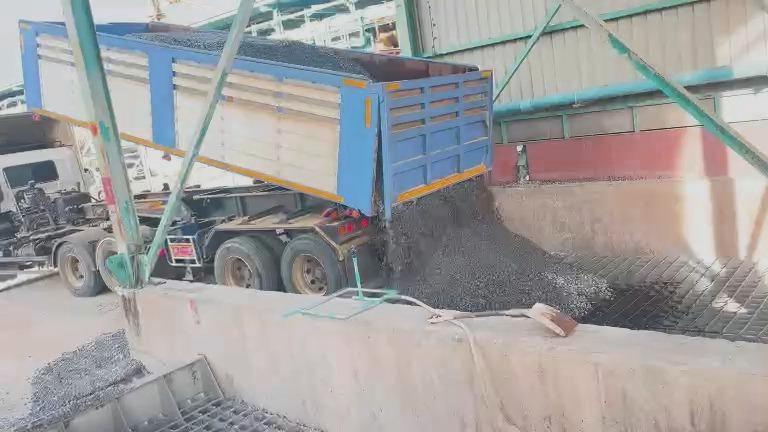gravel: (387, 176, 610, 317), (1, 330, 146, 430), (238, 35, 373, 80), (127, 32, 227, 52)
